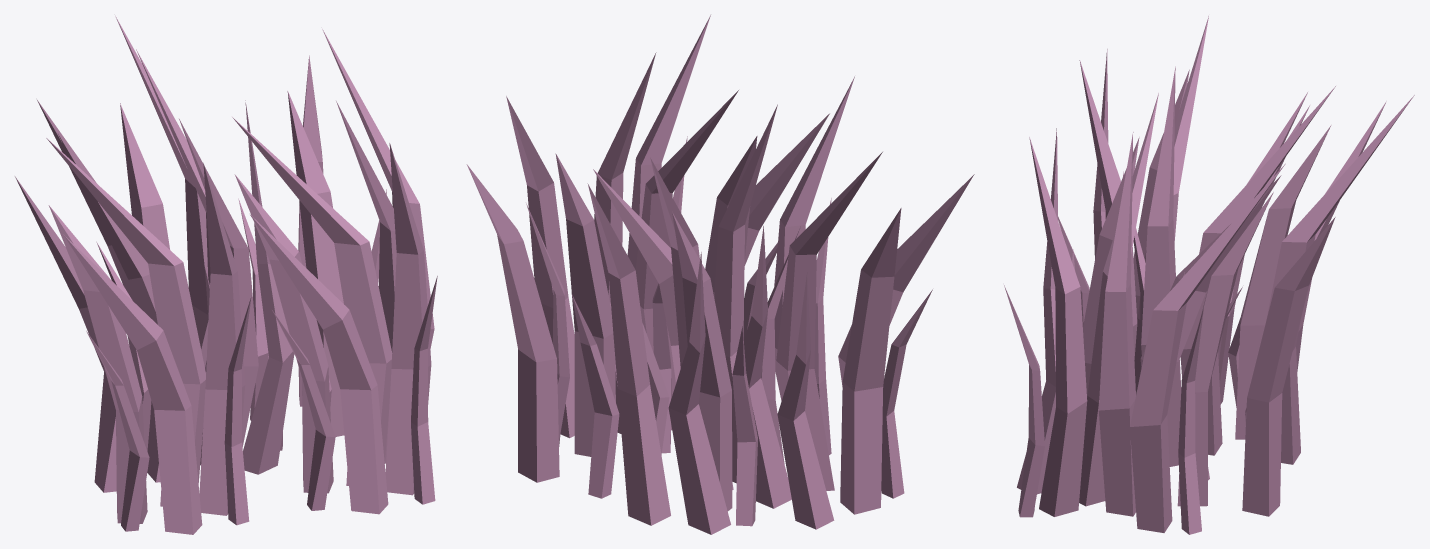
Rendered from 01_01Grass_Purple.fbx.
3 renders of one model, left to right at view 1: azimuth 30°, elevation 25°; view 2: azimuth 150°, elevation 25°; view 3: azimuth 270°, elevation 25°, orthographic. The views are drawn at different scales.
Visible parts, largest first — view 1: Icosphere.063; view 2: Icosphere.063; view 3: Icosphere.063.
Boxes of the visible parts, box(x1,y1,x2,y2) form: Icosphere.063: box(15, 16, 437, 534); Icosphere.063: box(466, 15, 974, 534); Icosphere.063: box(1004, 16, 1414, 534).
Bounding box in the file's own units: 56.37 × 52.36 × 52.93.
